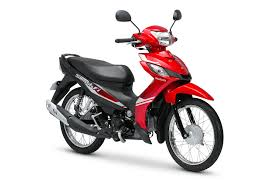motorcycle: (47, 6, 226, 169)
